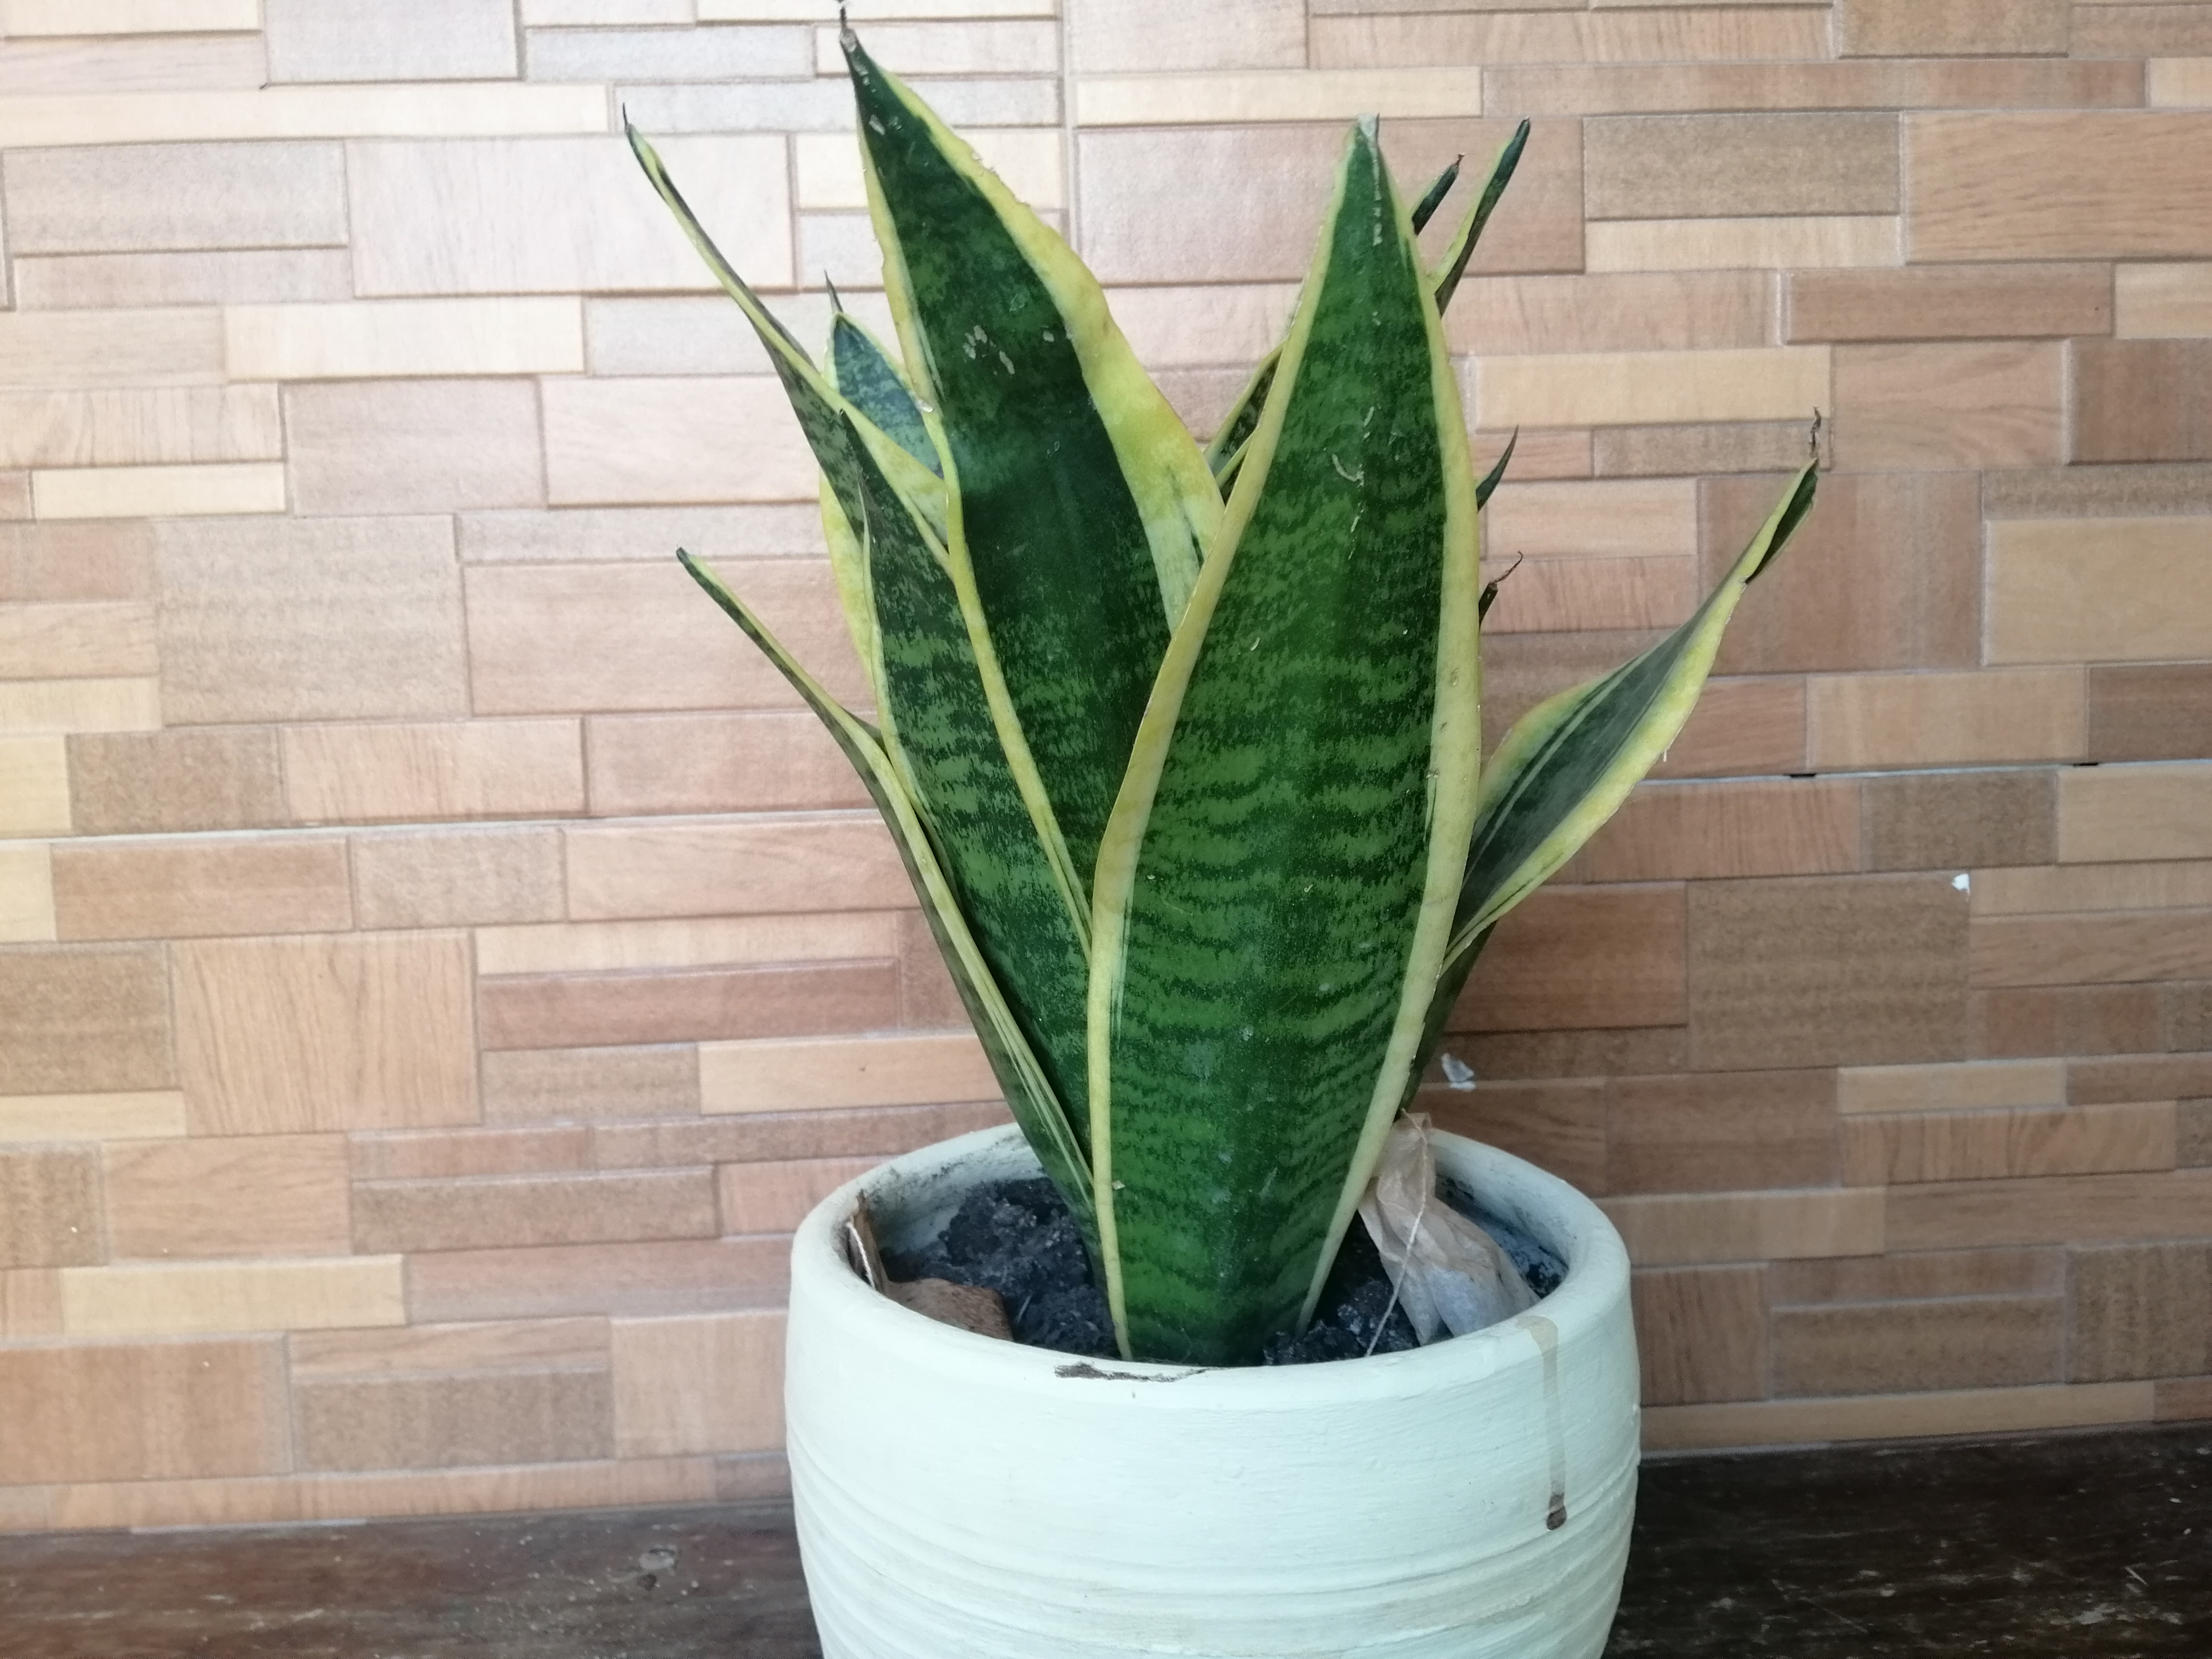plant: (620, 12, 1824, 1659)
